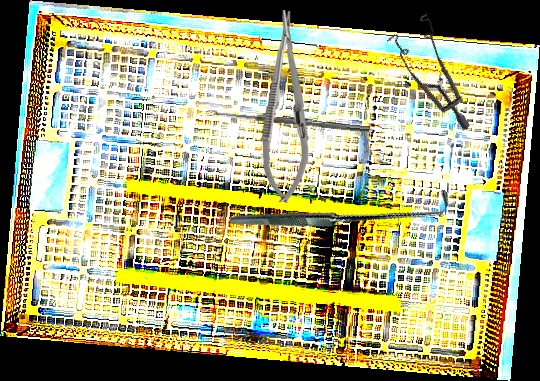Hook Surgical: (228, 97, 455, 322)
Needle Holder: (259, 10, 313, 203)
Speculum: (368, 3, 508, 132)
Surgical Spoon: (207, 108, 370, 133)
